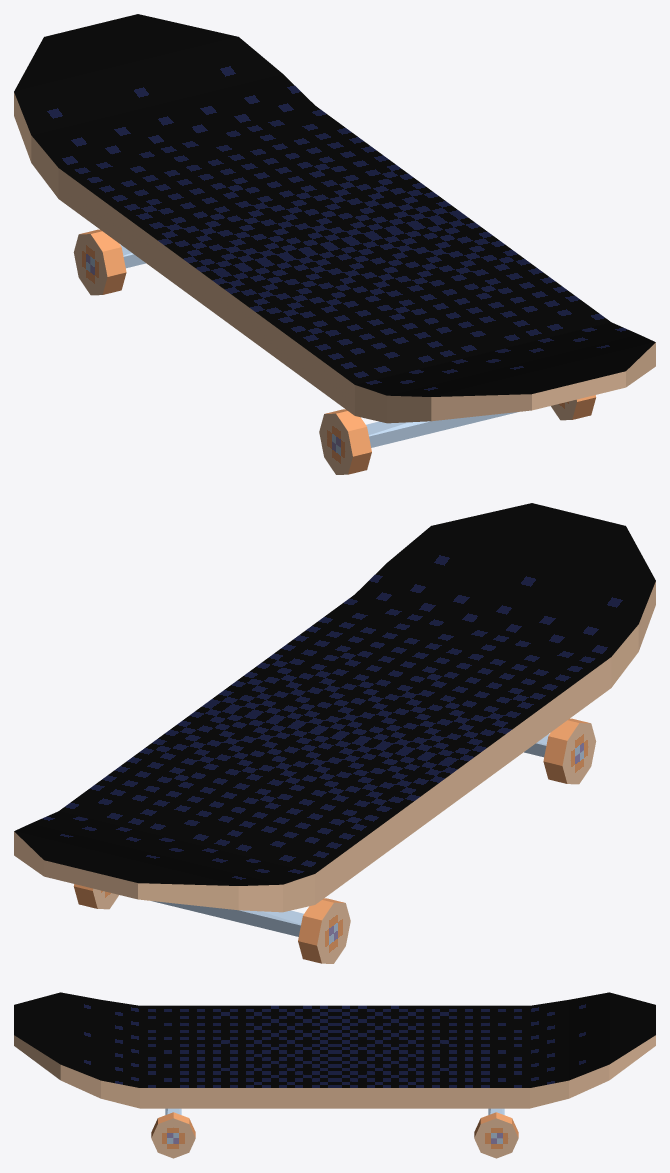
The model's file is skate_basic.glb.
3 renders of one model, top to bottom at view 1: azimuth 30°, elevation 25°; view 2: azimuth 150°, elevation 25°; view 3: azimuth 270°, elevation 25°, orthographic. The views are drawn at different scales.
Parts seen in each view (by area): view 1: Board, Wheels, Rims; view 2: Board, Wheels, Rims; view 3: Board, Wheels.
Part boxes in pixels (box(x1,y1,x2,y2)): Board: box(14, 14, 655, 423); Wheels: box(73, 229, 596, 474); Rims: box(120, 245, 517, 447); Board: box(14, 503, 655, 912); Wheels: box(73, 718, 596, 963); Rims: box(152, 734, 549, 936); Board: box(14, 992, 655, 1108); Wheels: box(151, 1112, 518, 1158).
Bounding box in the file's own units: 1 × 0.5638 × 3.29.
Materials: 1 (1 with a texture image).
